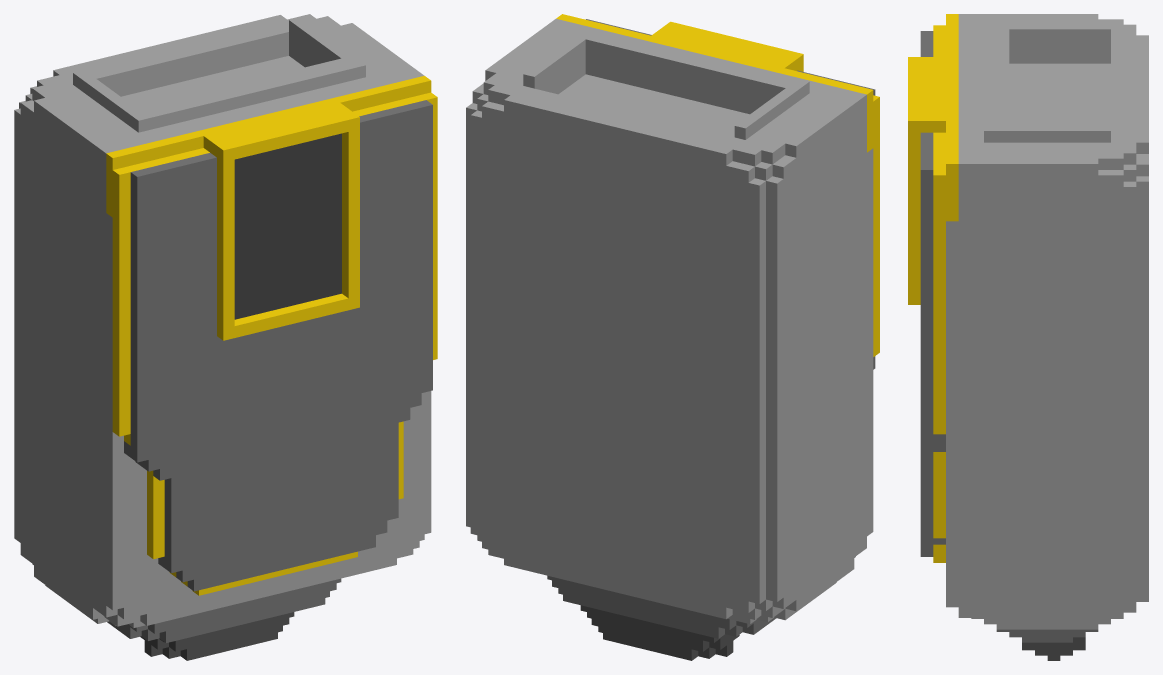
Rendered from RbtChest.obj.
3 renders of one model, left to right at view 1: azimuth 30°, elevation 25°; view 2: azimuth 150°, elevation 25°; view 3: azimuth 270°, elevation 25°, orthographic. The views are drawn at different scales.
Bounding box in the file's own units: 28 × 48 × 19.
Materials: 1 (1 with a texture image).
